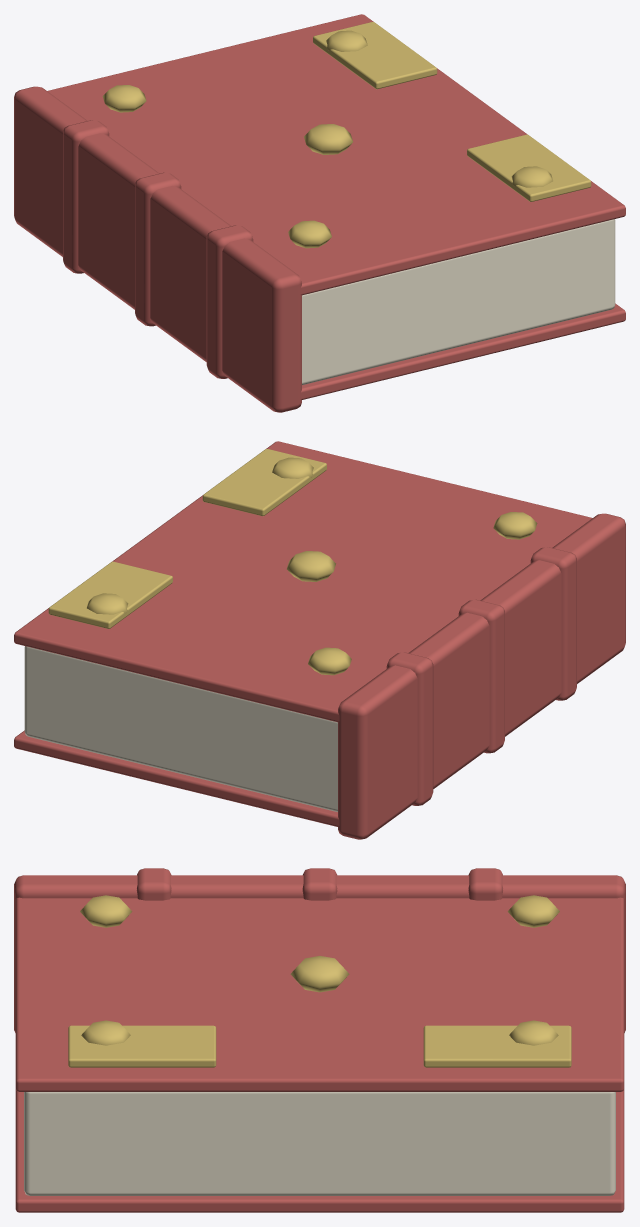
Rendered from finished-codex.glb.
3 renders of one model, top to bottom at view 1: azimuth 30°, elevation 25°; view 2: azimuth 150°, elevation 25°; view 3: azimuth 270°, elevation 25°, orthographic. The views are drawn at different scales.
Visible parts, largest first — view 1: finished-codex; view 2: finished-codex; view 3: finished-codex.
Part boxes in pixels (x1,y1,x2,y2): finished-codex: (14, 14, 625, 412); finished-codex: (14, 441, 625, 839); finished-codex: (14, 868, 625, 1212).
Size of the model in its own units: 0.288 by 0.117 by 0.372.
